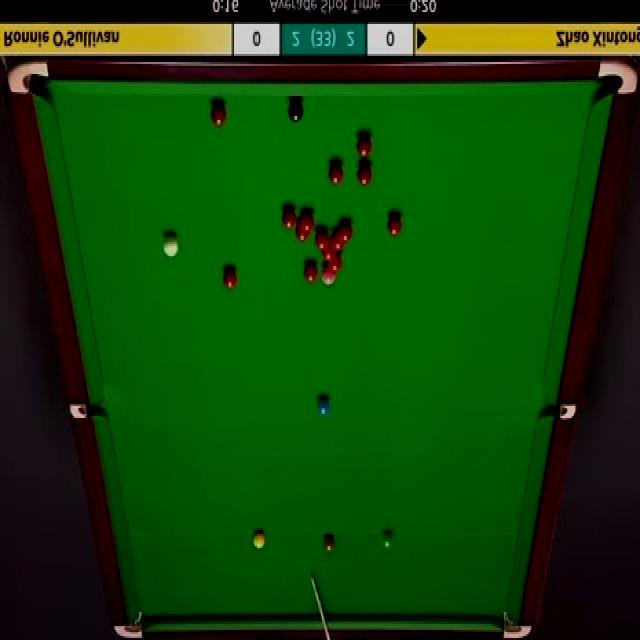black-ball: (286, 102, 304, 125)
blue-ball: (316, 398, 331, 415)
brown-ball: (324, 534, 335, 552)
green-ball: (380, 530, 395, 552)
pink-ball: (318, 270, 334, 284)
red-ball: (210, 104, 227, 130), (386, 213, 402, 240), (221, 266, 237, 290), (314, 228, 330, 251), (300, 212, 316, 235), (329, 159, 344, 183), (337, 222, 353, 244), (294, 220, 310, 242), (355, 139, 371, 158), (356, 166, 370, 187), (282, 208, 297, 227), (330, 234, 344, 254), (303, 265, 317, 284), (320, 244, 334, 262), (329, 254, 341, 272)
white-ball: (164, 234, 178, 258)
yellow-ball: (253, 530, 265, 550)
